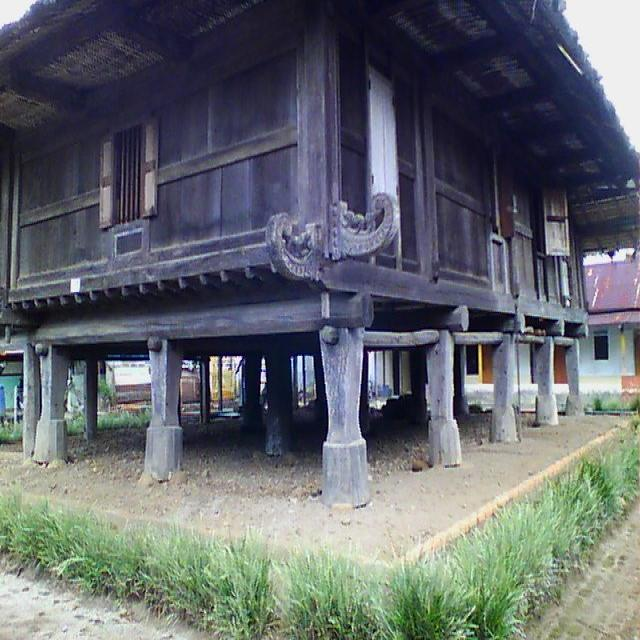Kolom: (33, 344, 67, 461)
Tembok Bangunan: (1, 2, 586, 324)
